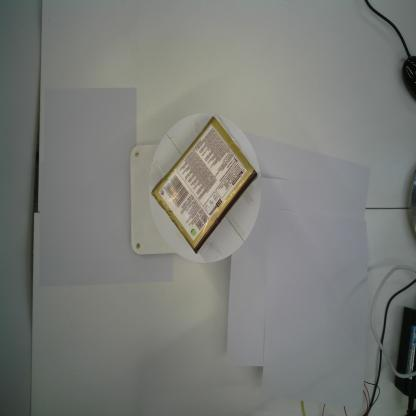Tissue: (150, 115, 260, 255)
